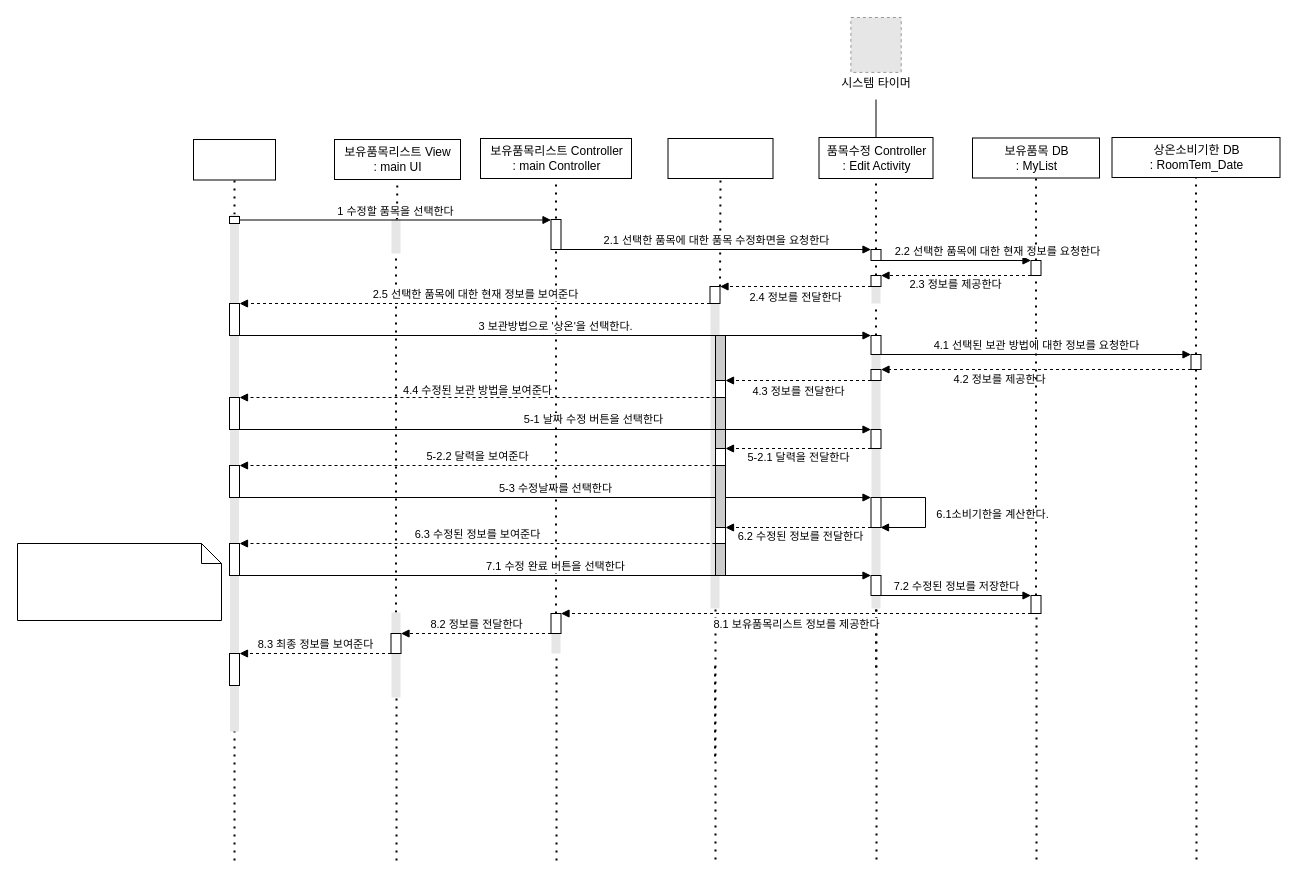
This 1298x880 diagram has some shape labels left out. Grey dashed boxes stand in for pictures. Here are the shapes that lost their labels. From the top down, the box of each, then its label:
(192, 138, 276, 180): USER
(667, 138, 773, 178): 품목수정 View : Edit Activity
(16, 542, 222, 620): 7A. 사용자가 취소버튼을 누를 경우, 시스템이 '수정을 취소하시겠습니까?' 라는 팝업창을 보여준다
